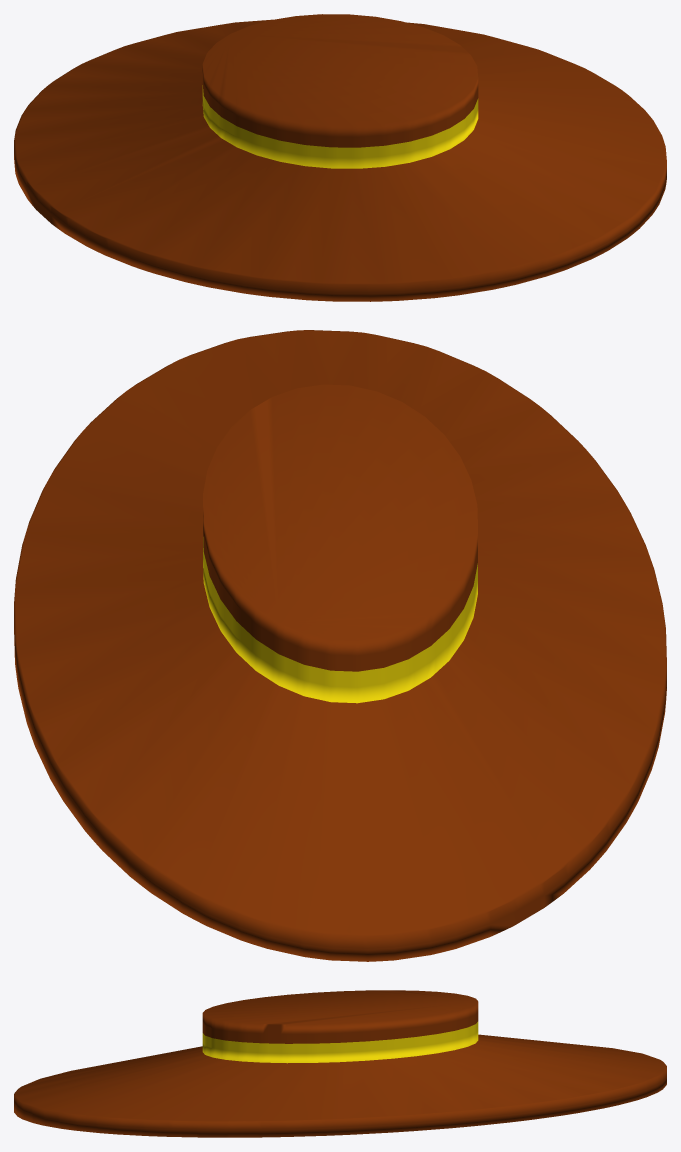
Rendered from hat 1.fbx.
3 views of the same model, one above another, from view 1: azimuth 30°, elevation 25°; view 2: azimuth 150°, elevation 25°; view 3: azimuth 270°, elevation 25° (orthographic). The views are drawn at different scales.
Parts seen in each view (by area): view 1: Cylinder; view 2: Cylinder; view 3: Cylinder.
Part boxes in pixels (left/top/right/bottom): Cylinder: left=14, top=14, right=666, bottom=301; Cylinder: left=14, top=330, right=666, bottom=961; Cylinder: left=14, top=990, right=666, bottom=1137.
Bounding box in the file's own units: 174 × 71.27 × 253.
